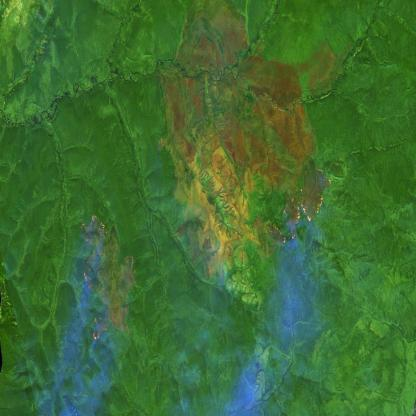fire: (273, 168, 333, 249), (78, 211, 110, 296), (89, 313, 111, 346)
